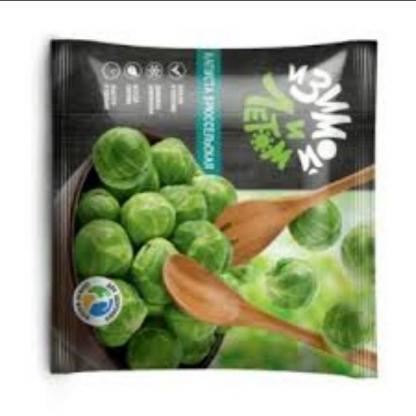brus capusta: (61, 128, 237, 356), (291, 190, 367, 255), (267, 251, 330, 328), (323, 302, 375, 352)
